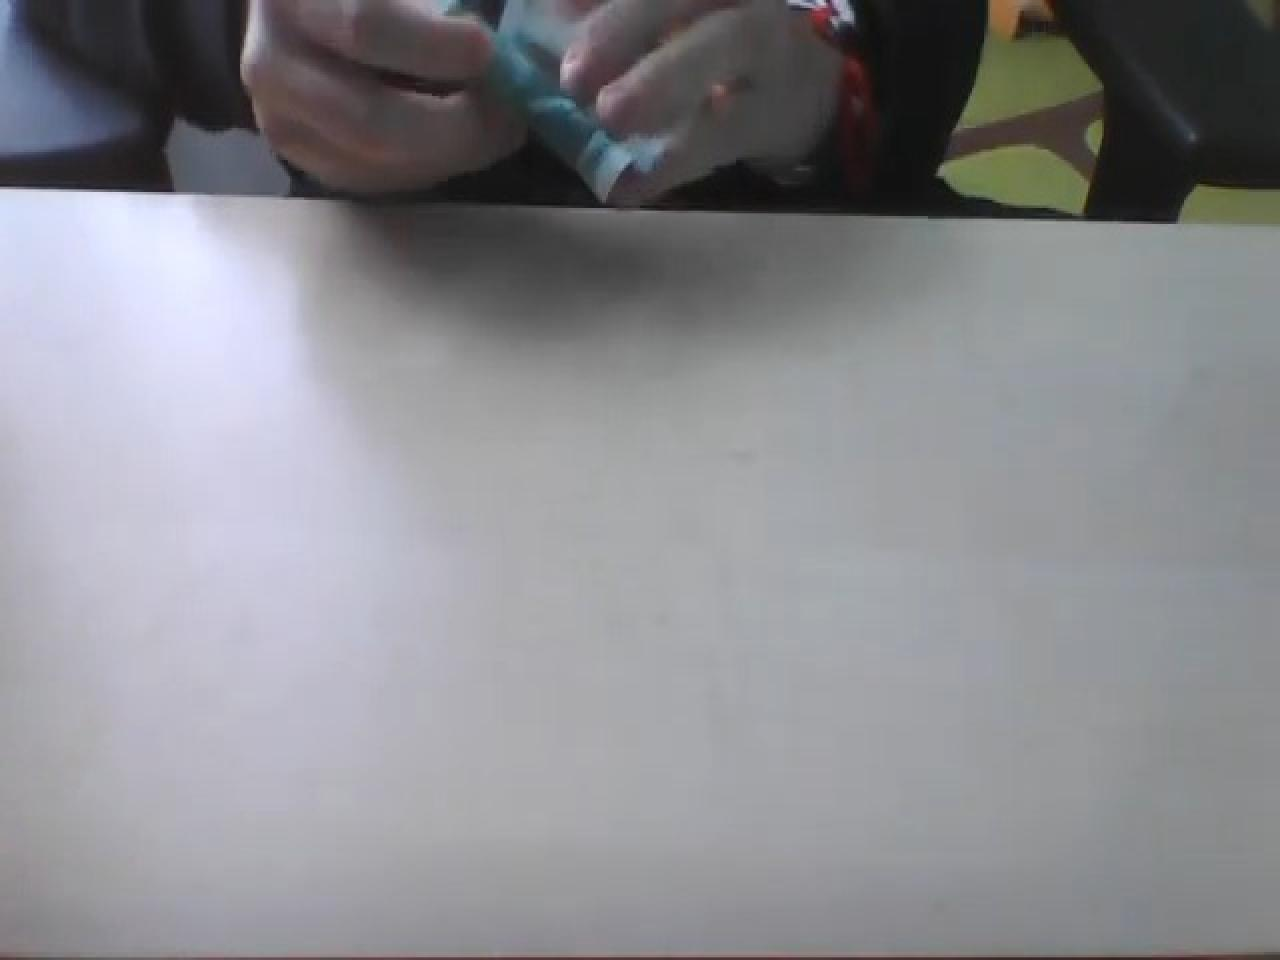100leva: (446, 3, 672, 206)
